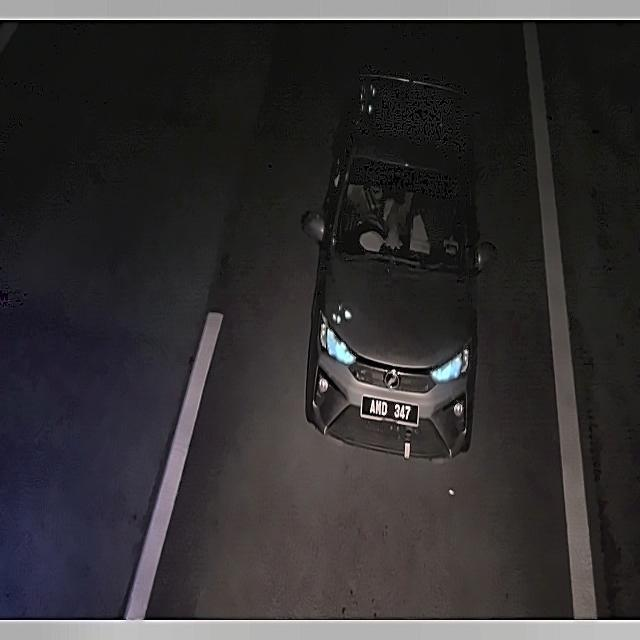car: (360, 393, 420, 431)
